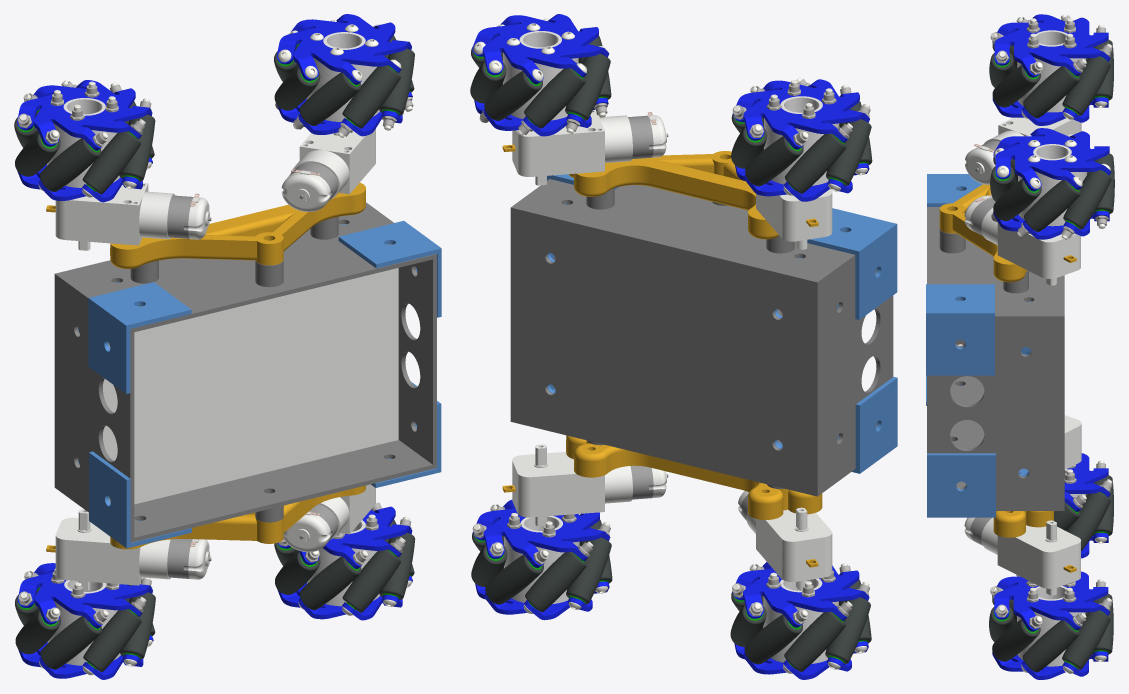
The model's file is diseño de auto caja v18.fbx.
The picture shows the model from 3 angles, left to right: view 1: azimuth 30°, elevation 25°; view 2: azimuth 150°, elevation 25°; view 3: azimuth 270°, elevation 25°; orthographic projection. The views are drawn at different scales.
Parts seen in each view (by area): view 1: Body1 (×39), Body10, Body6 (×4), Body5 (×2); view 2: Body1 (×37), Body5 (×2); view 3: Body1 (×38), Body6, Body5 (×2).
Part boxes in pixels (left/top/right/bottom): Body1 (×39): left=15, top=14, right=441, bottom=679; Body10: left=103, top=268, right=398, bottom=504; Body6 (×4): left=188, top=172, right=330, bottom=579; Body5 (×2): left=167, top=195, right=193, bottom=578; Body1 (×37): left=470, top=14, right=897, bottom=679; Body5 (×2): left=628, top=115, right=653, bottom=499; Body1 (×38): left=926, top=14, right=1114, bottom=679; Body6: left=965, top=147, right=995, bottom=184; Body5 (×2): left=970, top=198, right=995, bottom=545.
Bounding box in the file's own units: 18.52 × 26.6 × 8.78.
